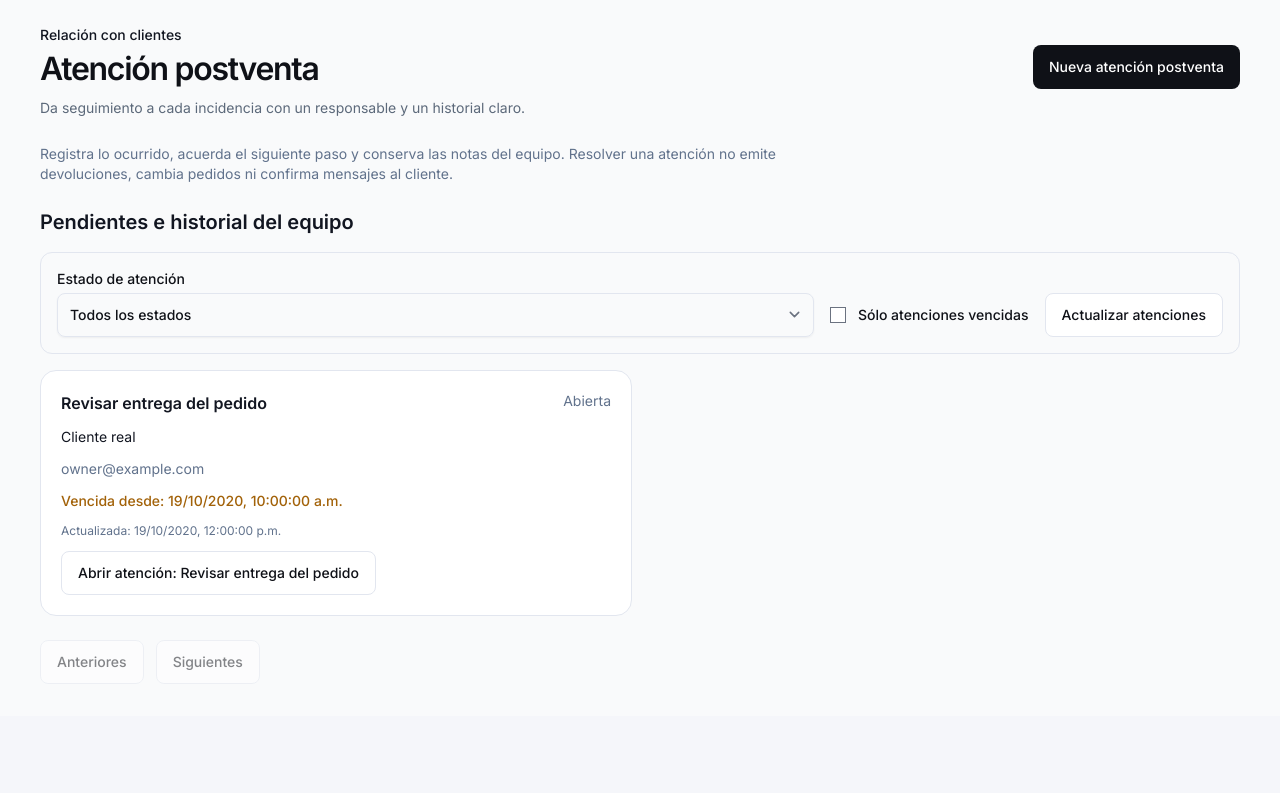
Test: blocks stale edits after a version conflict without discarding the note draft
The width and height of the screenshot is (1280, 793).
Click the button "Abrir atención: Revisar entrega del pedido" at point(218, 573), box [61,551,376,595]
(page scrolled)
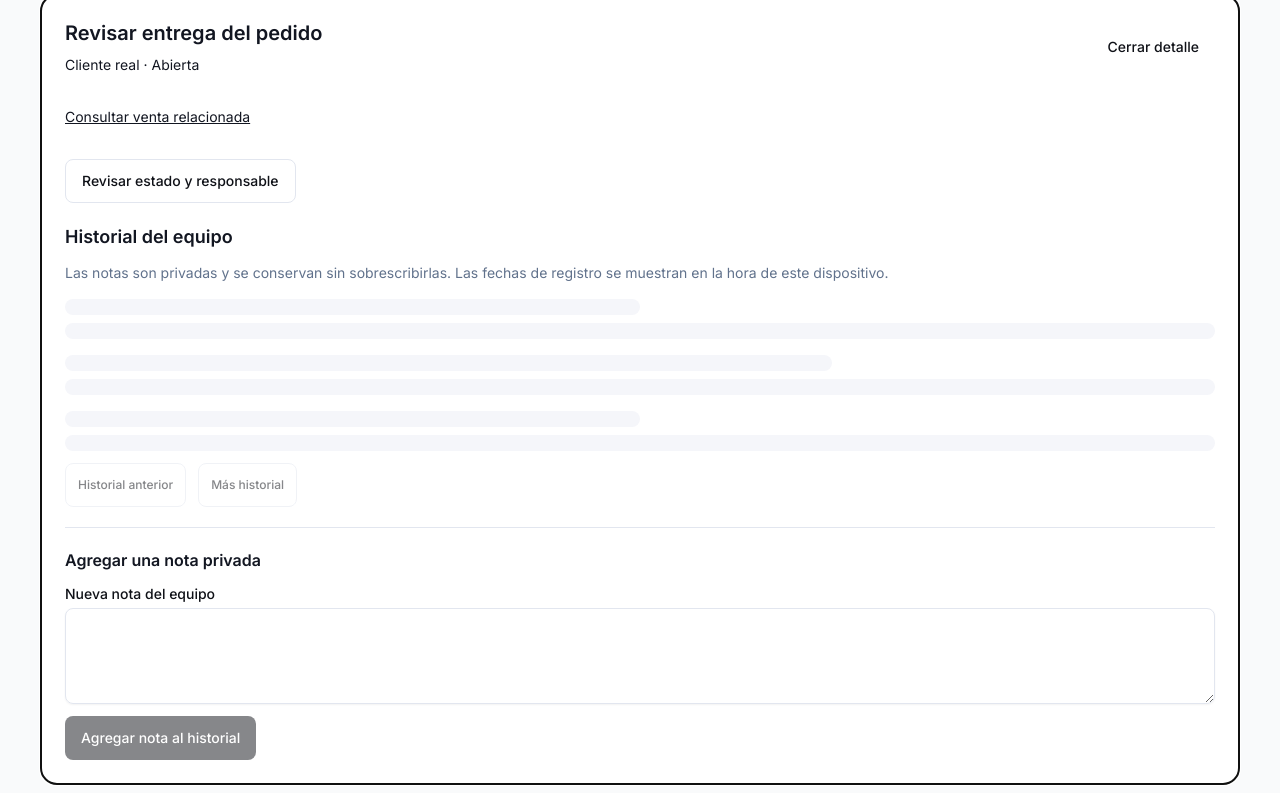
Type "Borrador que debe conservarse" into the text box labelled "Nueva nota del equipo" at point(640, 656), box [65,608,1215,704]
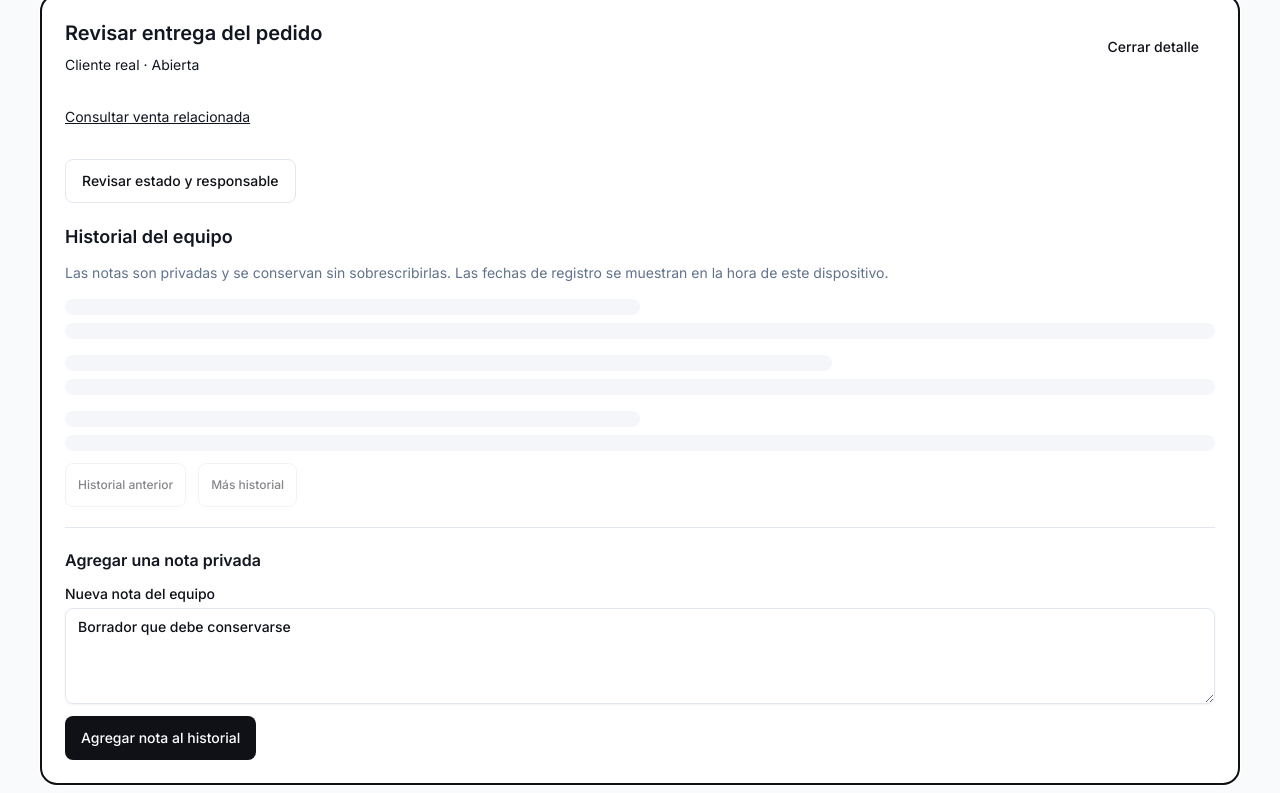
Click the button "Revisar estado y responsable" at point(180, 181), box [65,159,296,203]
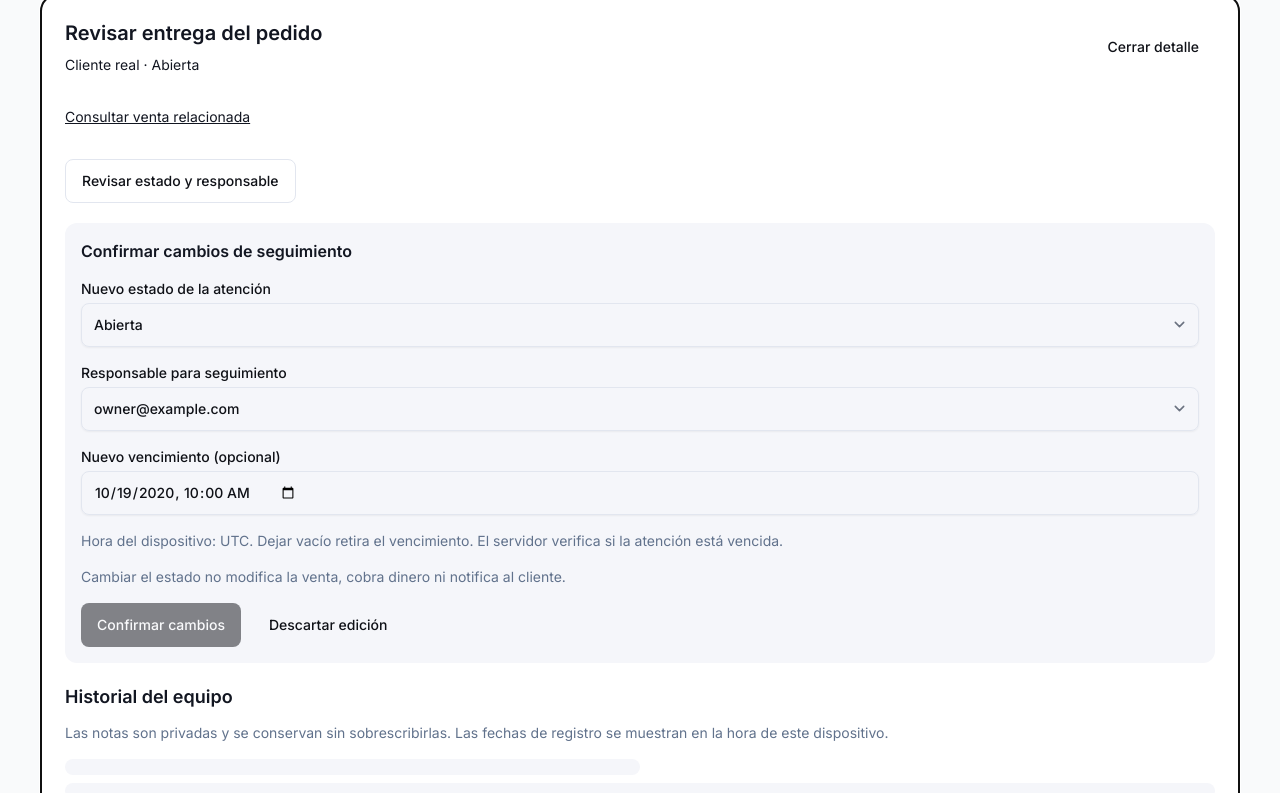
Select "En atención" in the dropdown labelled "Nuevo estado de la atención" at point(640, 325), box [81,303,1199,347]
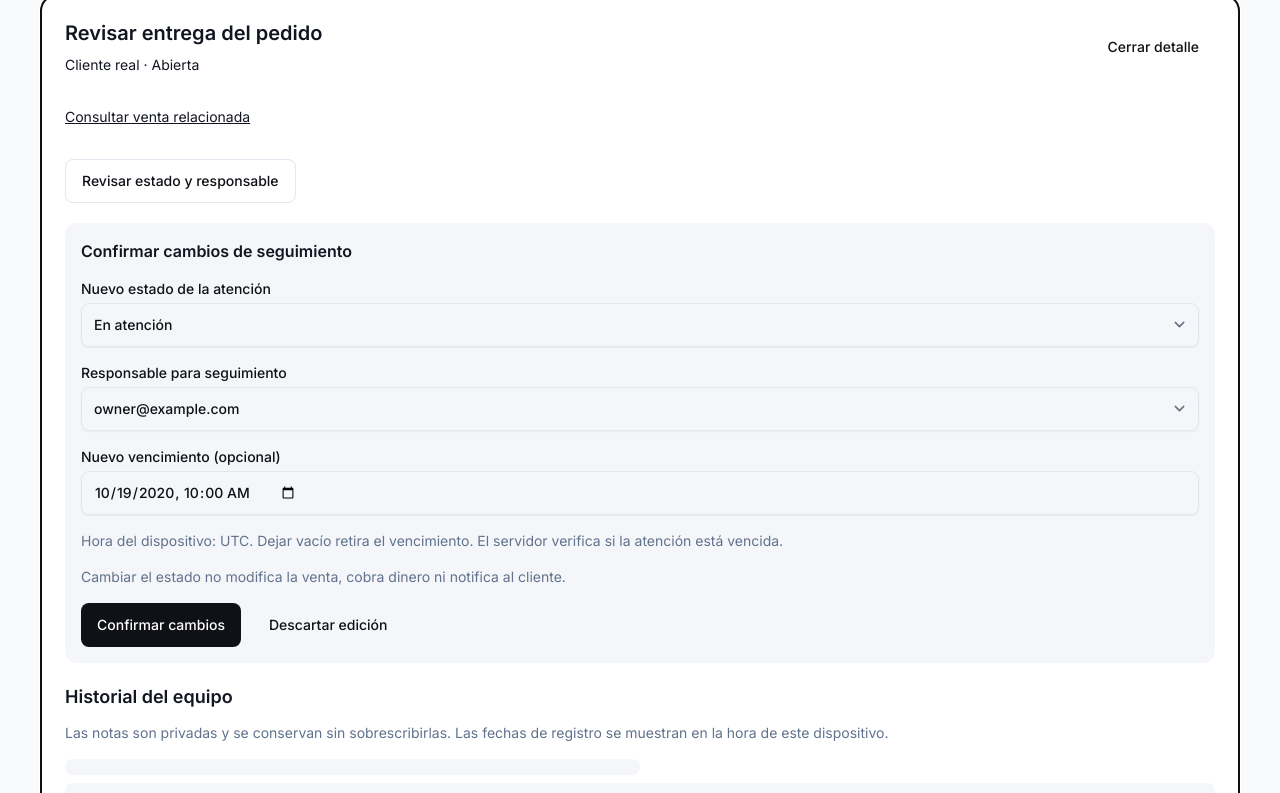
Click the button "Confirmar cambios" at point(161, 625), box [81,603,241,647]
(page scrolled)
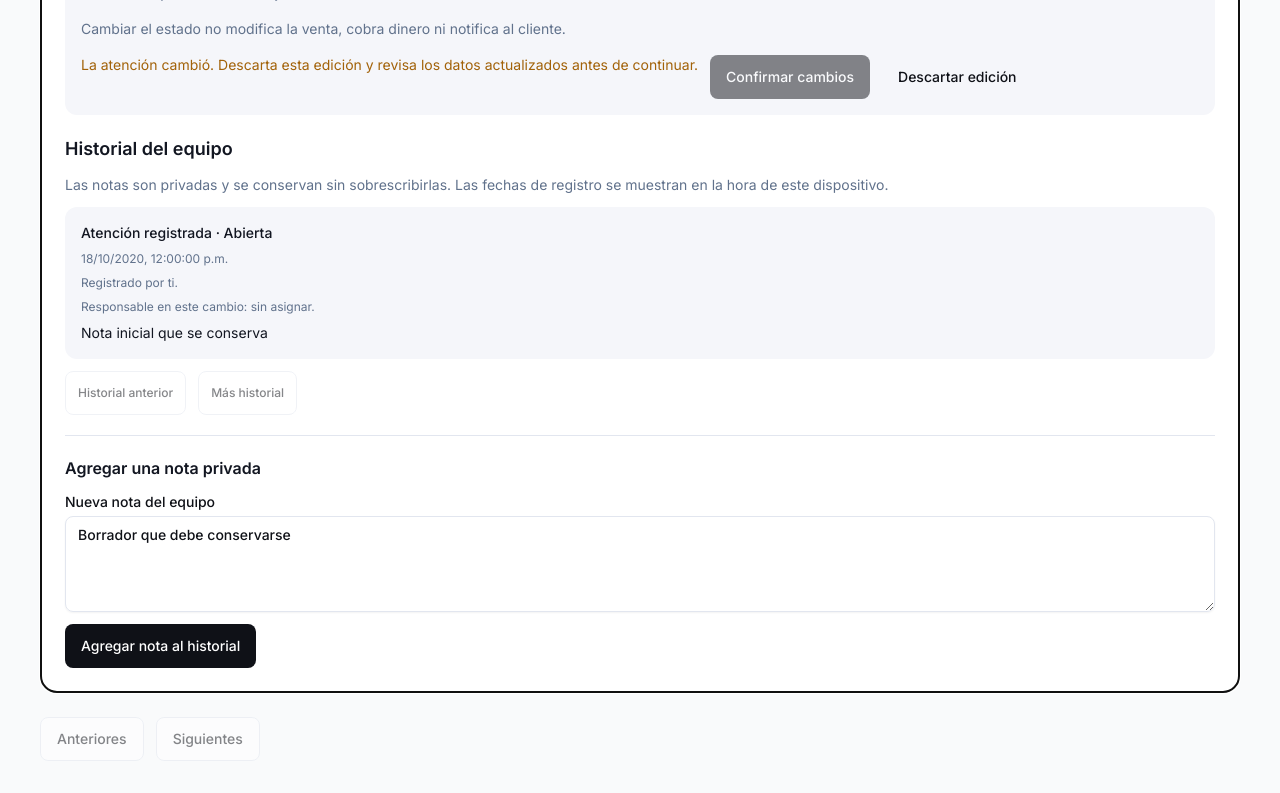
Expected: the text "Descarta esta edición" is shown, [81,56,698,73]
Expected: the button "Confirmar cambios" is disabled, [710,55,870,99]
